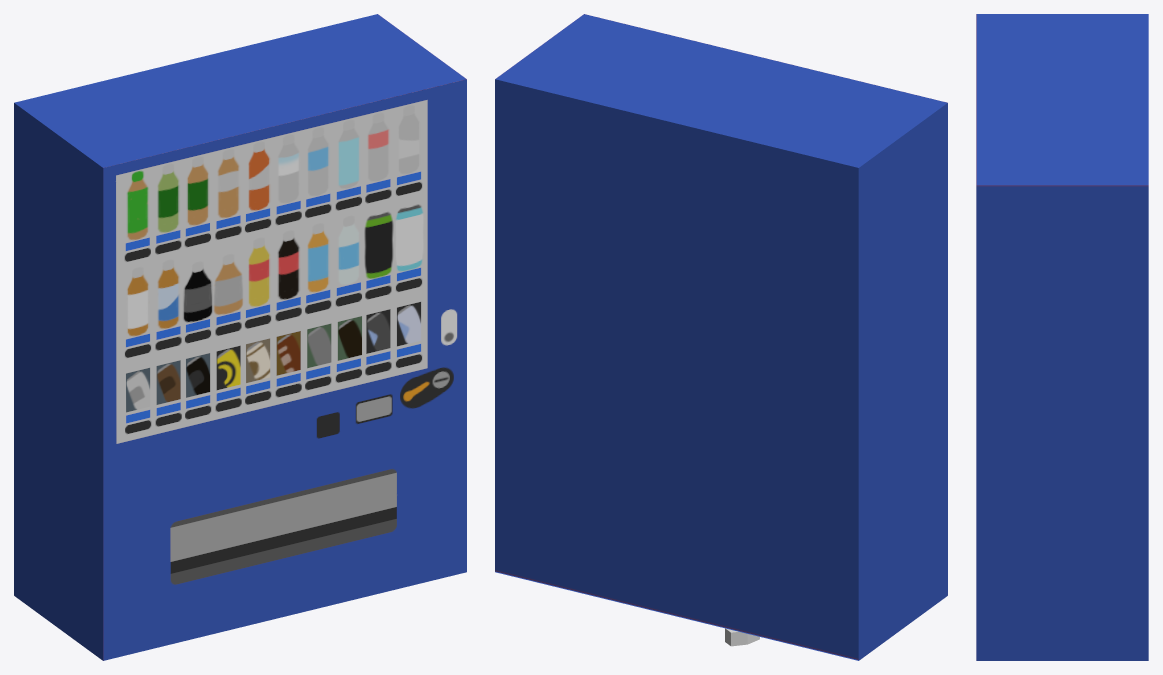
Rendered from zihanki2.fbx.
The picture shows the model from 3 angles, left to right: view 1: azimuth 30°, elevation 25°; view 2: azimuth 150°, elevation 25°; view 3: azimuth 270°, elevation 25°; orthographic projection. The views are drawn at different scales.
Parts seen in each view (by area): view 1: 立方体.013; view 2: 立方体.013; view 3: 立方体.013.
Part boxes in pixels (x1,y1,x2,y2): 立方体.013: [14, 14, 466, 660]; 立方体.013: [495, 14, 947, 660]; 立方体.013: [976, 14, 1148, 660].
Size of the model in its own units: 298 by 418 by 126.
1 material, 1 textured.
